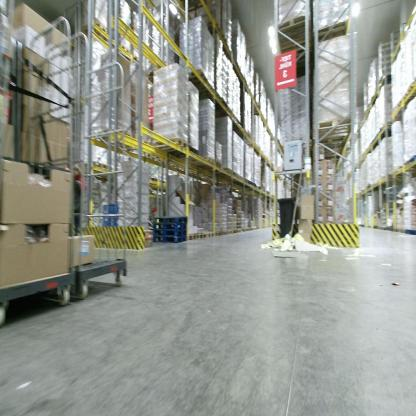pallet: (312, 18, 352, 47), (317, 112, 356, 137), (279, 12, 310, 40), (276, 32, 308, 59), (315, 128, 353, 150), (156, 136, 189, 158), (187, 67, 208, 90), (174, 146, 200, 164), (151, 215, 189, 227), (151, 227, 189, 237), (153, 233, 188, 243), (89, 158, 110, 174), (152, 223, 188, 232), (195, 156, 214, 169), (206, 18, 222, 33), (188, 231, 197, 243), (206, 229, 215, 241), (215, 159, 223, 172), (197, 231, 207, 239), (215, 229, 222, 236)
